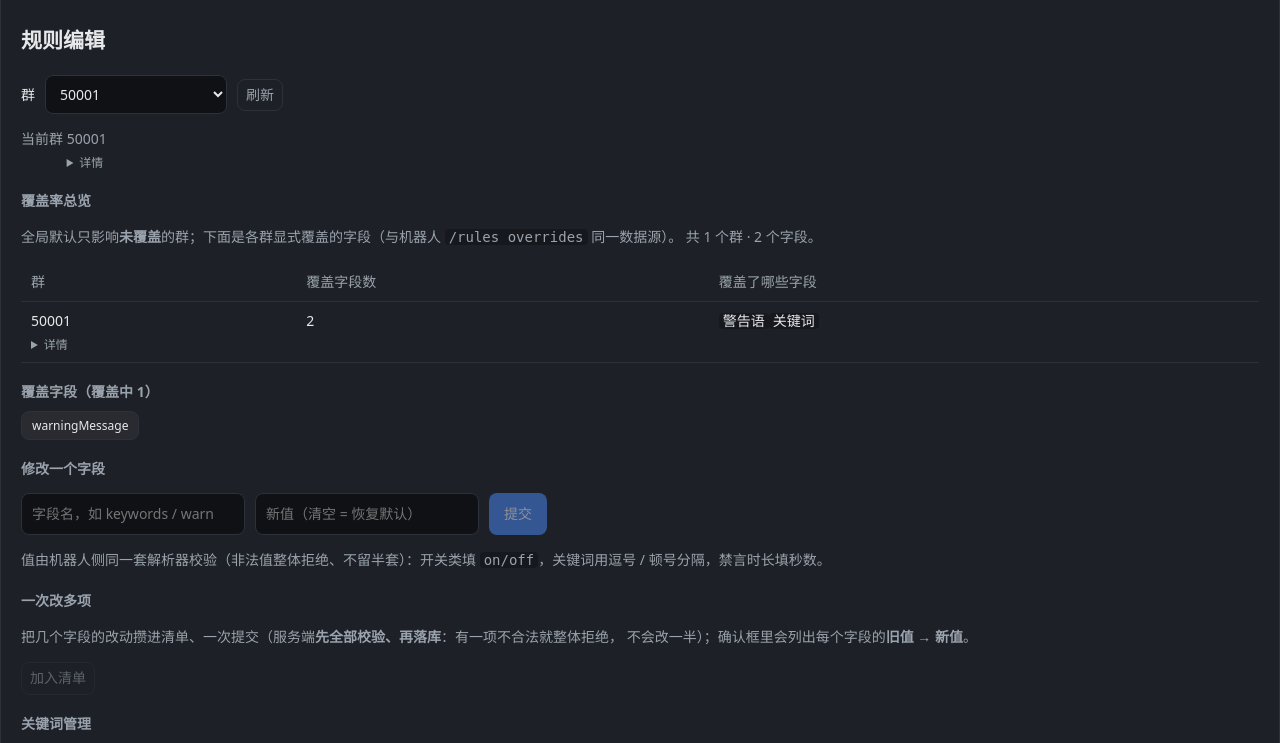
Scenario: RulesView › 一次改多项：清单出 diff、确认后才发一次 PUT（带 updates）
# 第一项：改警告语（用**规范字段名**，清单里就能显示当前值）
Type "warningMessage" into the field with id "rule-field" at x=133, y=514, box [21, 493, 245, 535]
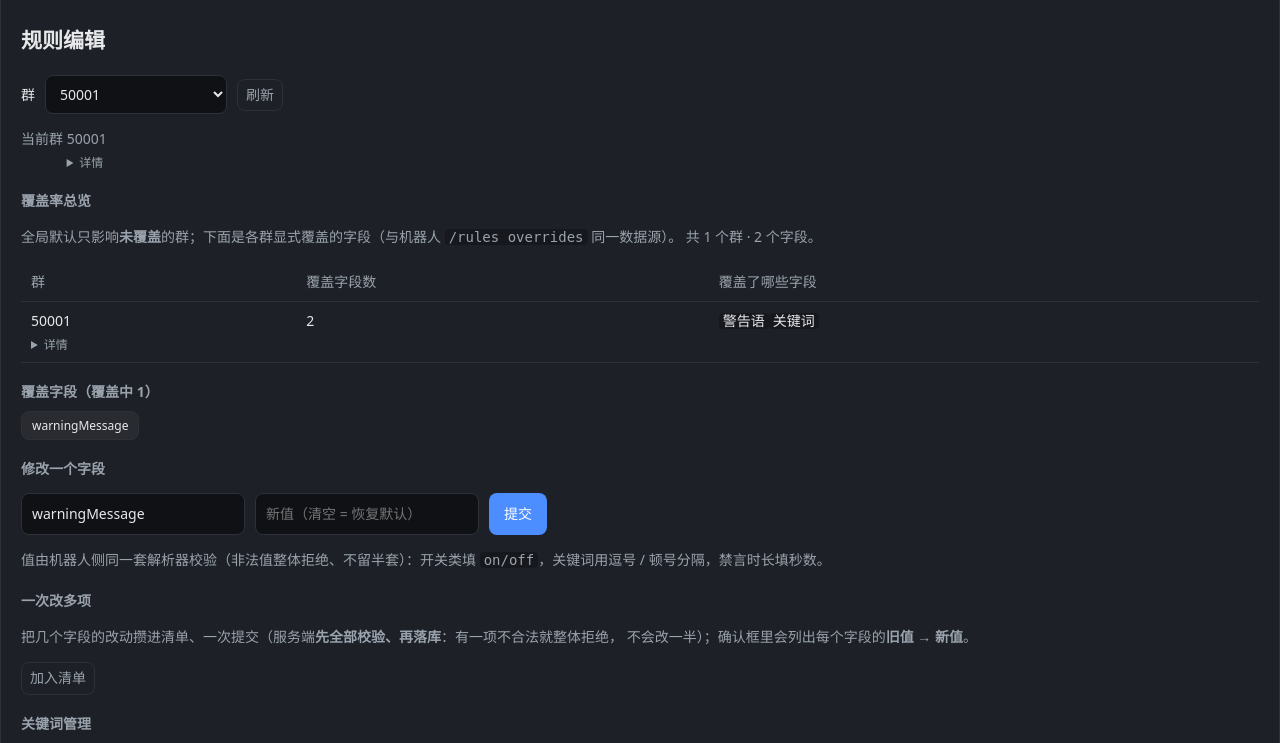
Type "新文案" into the field with id "rule-value" at x=367, y=514, box [255, 493, 479, 535]
Click the button "加入清单" at x=58, y=678, box [21, 662, 95, 695]
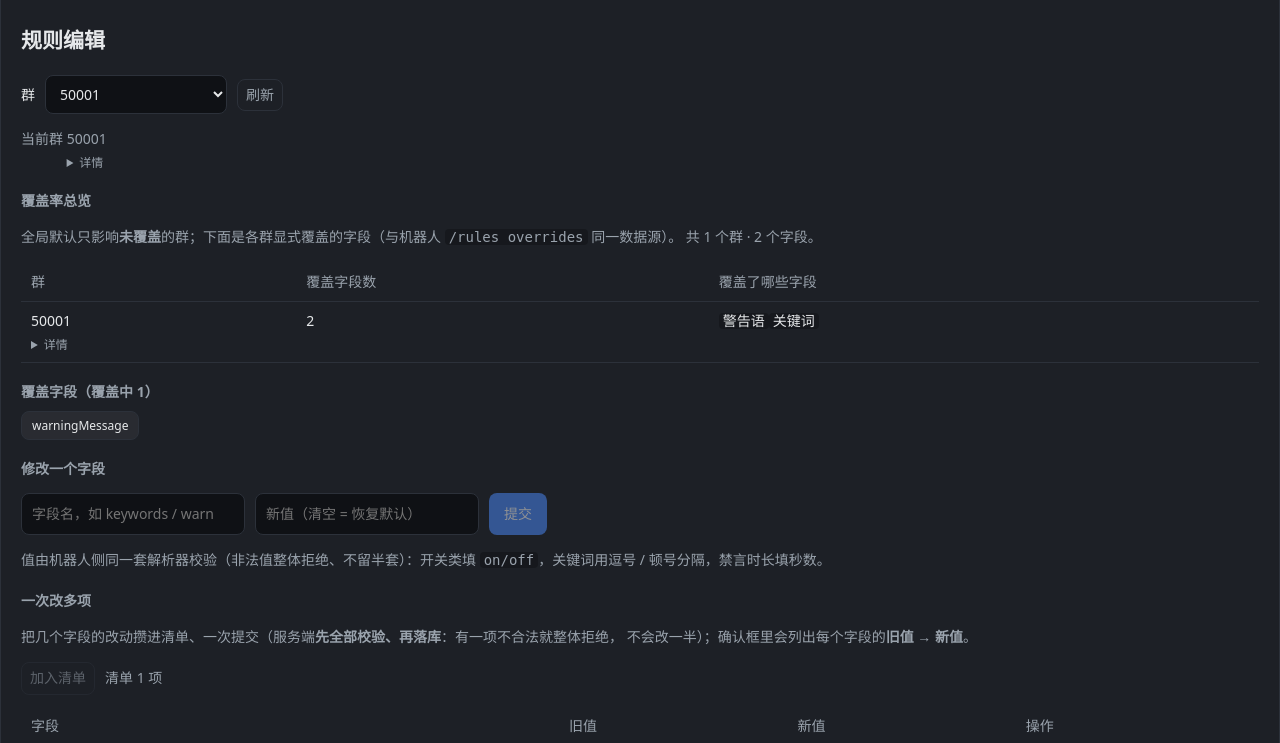
# 第二项：加关键词
Type "keywords" into the field with id "rule-field" at x=133, y=514, box [21, 493, 245, 535]
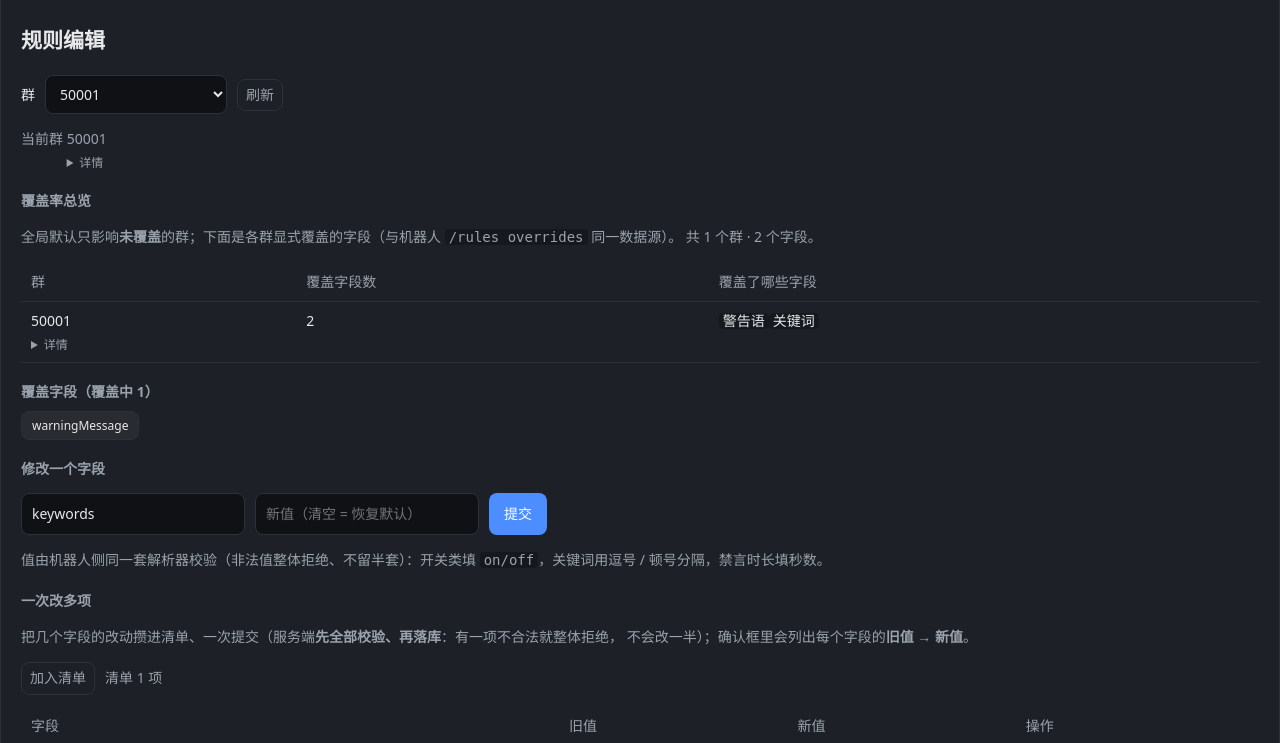
Type "刷屏" into the field with id "rule-value" at x=367, y=514, box [255, 493, 479, 535]
Click the button "加入清单" at x=58, y=678, box [21, 662, 95, 695]
(page scrolled)
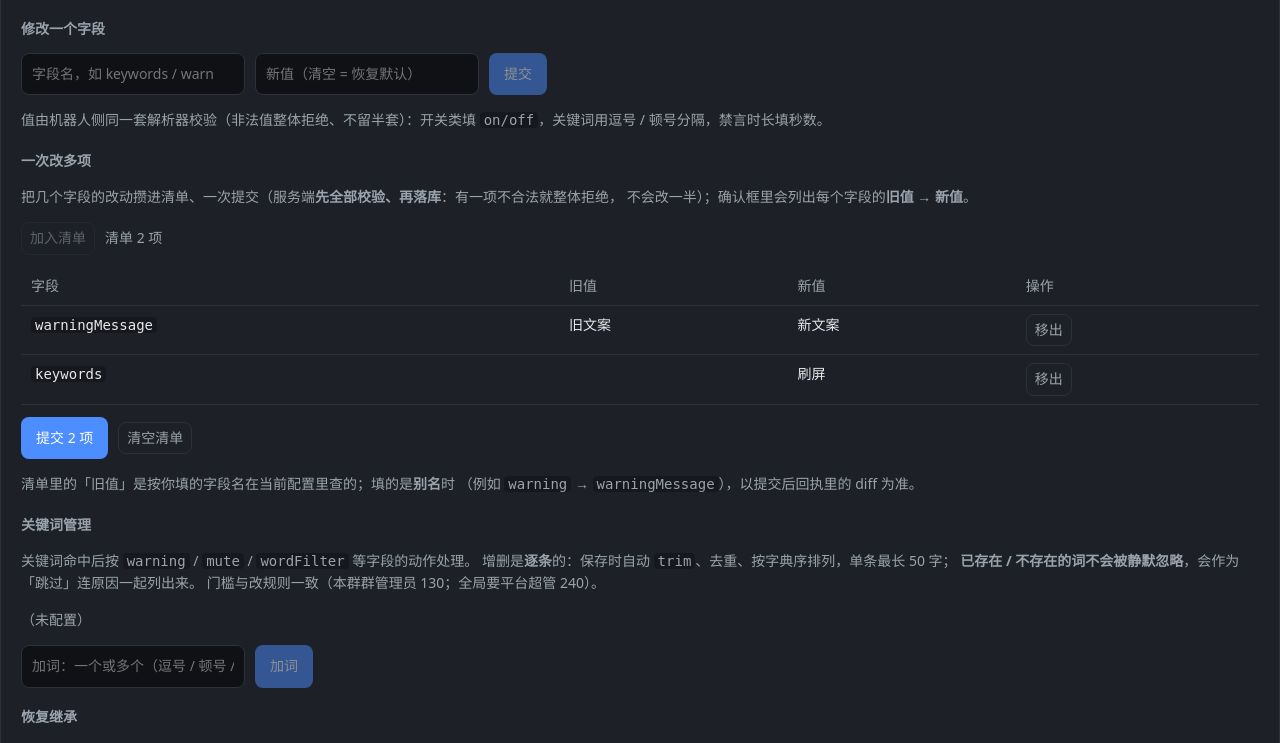
Now the table with id "rule-batch" shows "旧文案", box [569, 315, 611, 334]
Now the table with id "rule-batch" shows "新文案", box [797, 315, 839, 334]
Click the button "提交 2 项" at x=65, y=438, box [21, 417, 108, 459]
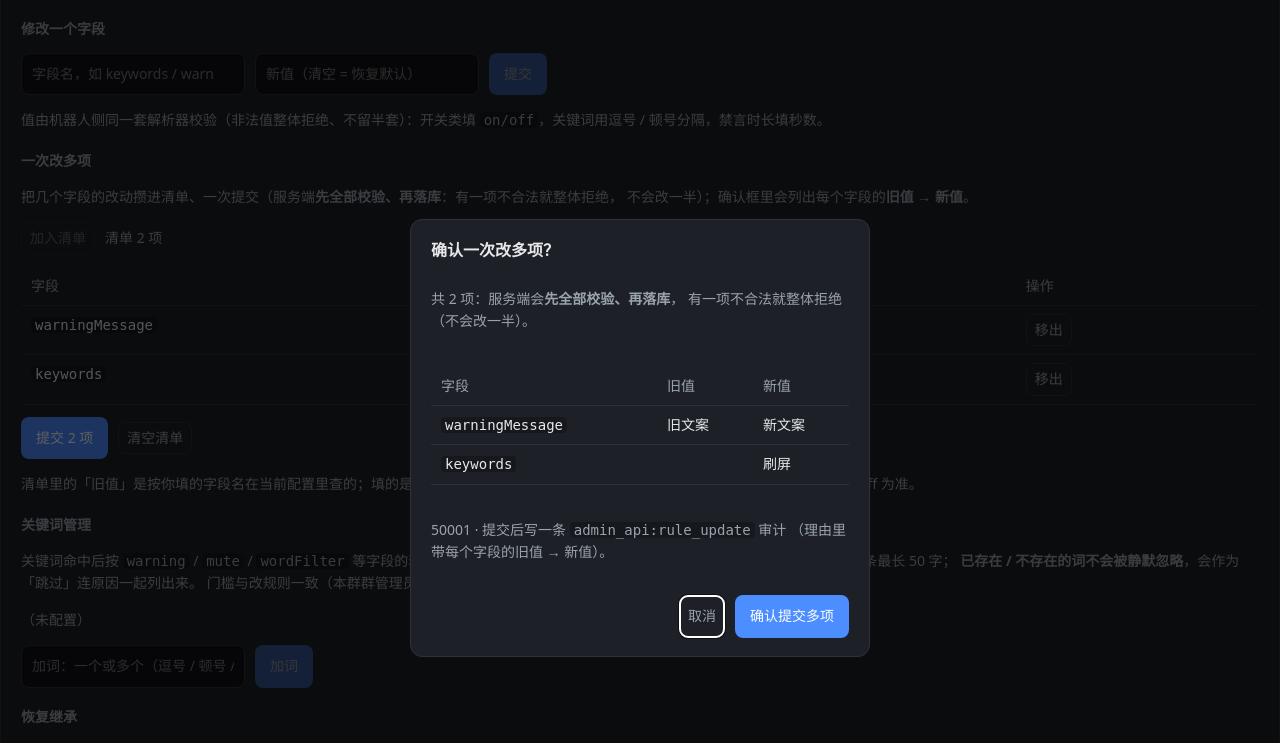
Now the text "确认一次改多项？" is shown, box [431, 239, 559, 261]
Click the button "确认提交多项" at x=792, y=617, box [735, 596, 849, 638]
(page scrolled)
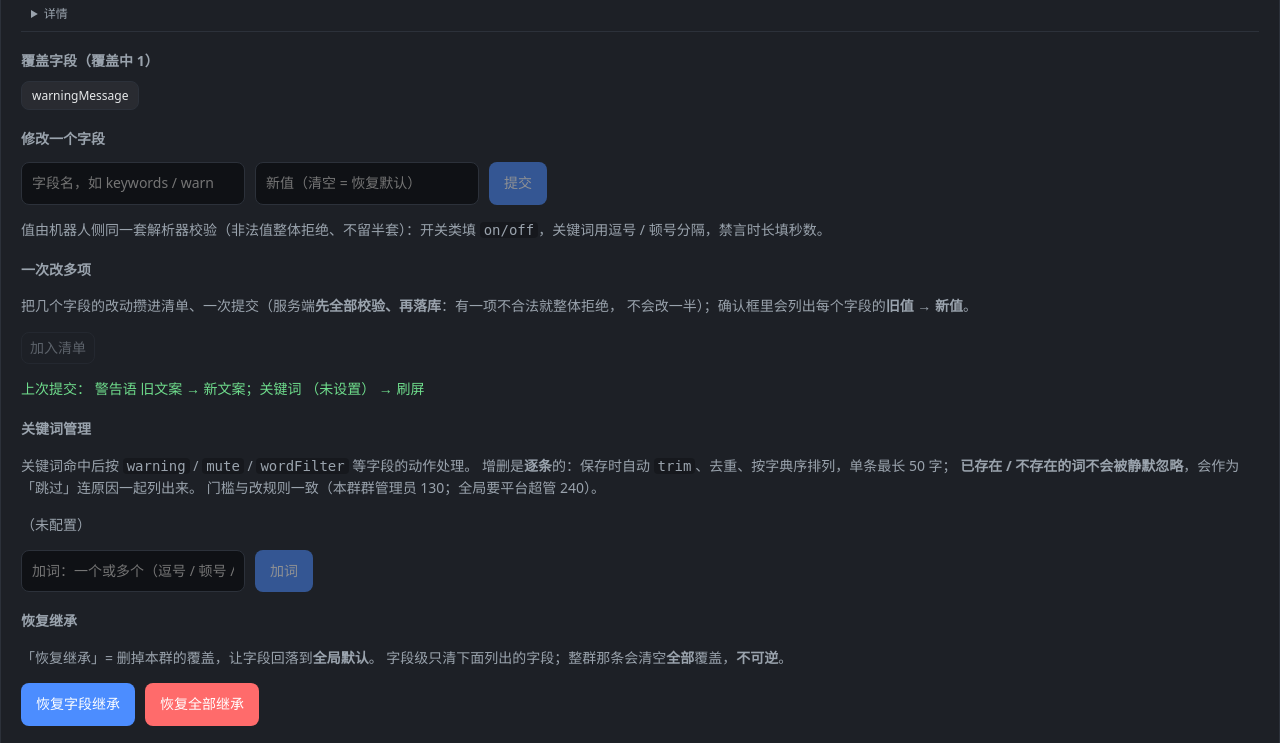
Now the text "警告语 旧文案 → 新文案" is shown, box [21, 379, 424, 398]
